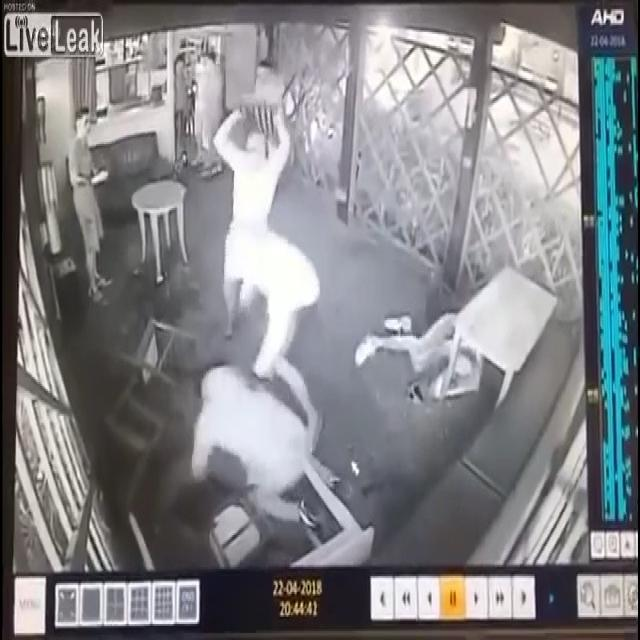fight: (214, 106, 319, 377)
